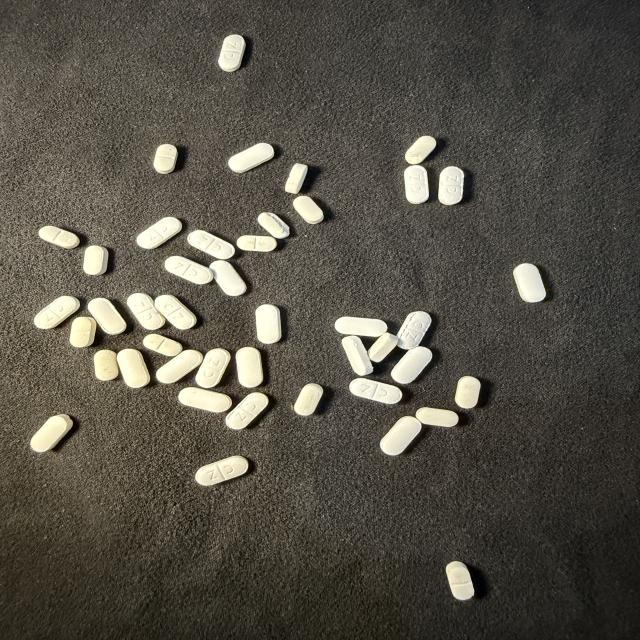pill: (380, 417, 421, 455), (226, 392, 268, 429), (195, 456, 248, 485), (156, 350, 202, 383), (31, 415, 72, 452), (391, 347, 432, 384), (34, 296, 79, 329), (137, 217, 182, 249), (154, 295, 196, 329), (127, 293, 165, 330), (228, 143, 274, 173), (88, 298, 126, 334), (196, 348, 230, 388), (349, 378, 401, 404), (178, 387, 232, 412), (165, 256, 213, 284), (188, 230, 234, 259), (210, 260, 246, 296), (117, 349, 150, 387), (398, 312, 431, 349), (514, 264, 546, 302), (342, 336, 373, 375), (236, 347, 263, 387), (335, 317, 387, 337), (446, 562, 474, 599), (256, 304, 281, 343), (218, 35, 245, 71), (294, 384, 323, 415), (439, 167, 463, 204), (404, 166, 428, 203), (39, 226, 79, 248), (368, 333, 398, 362), (405, 136, 436, 164), (143, 334, 182, 356), (293, 196, 323, 224), (258, 213, 289, 239), (455, 376, 480, 408), (416, 408, 458, 427), (70, 317, 96, 347), (83, 246, 108, 275), (94, 350, 118, 380), (154, 144, 177, 174), (237, 235, 277, 252), (285, 164, 307, 193)
